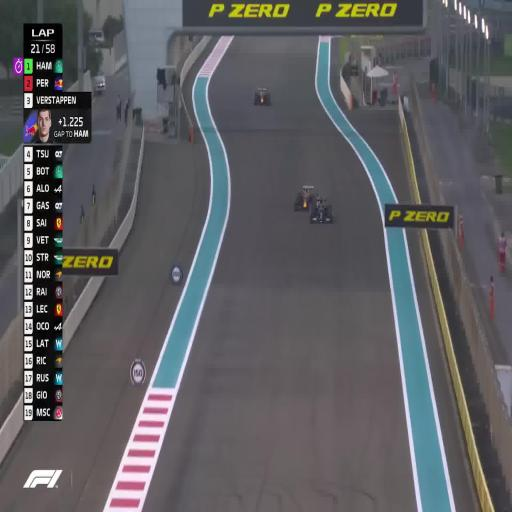f1_car: (310, 197, 333, 223), (294, 185, 316, 211), (254, 88, 271, 105)
